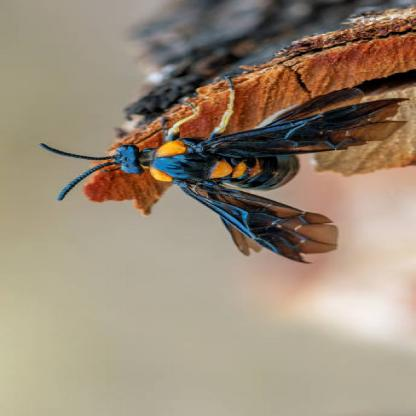sawfly: (46, 88, 416, 263)
